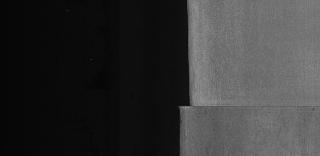welding line: (178, 102, 320, 112)
